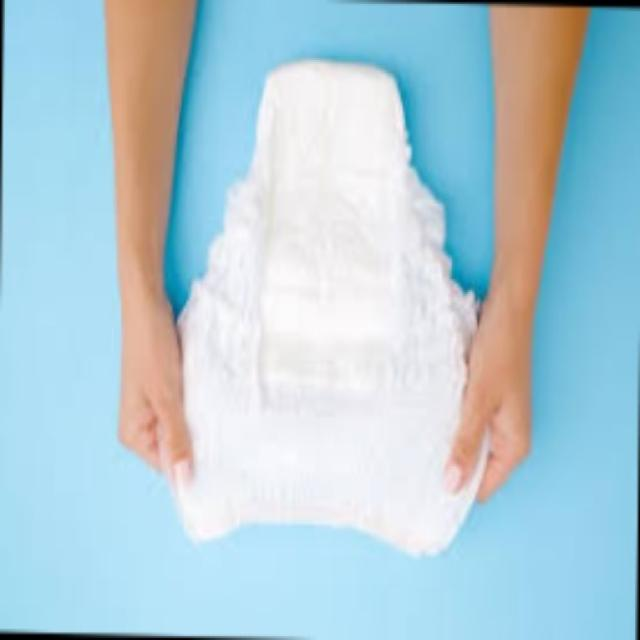B3: (171, 57, 451, 566)
